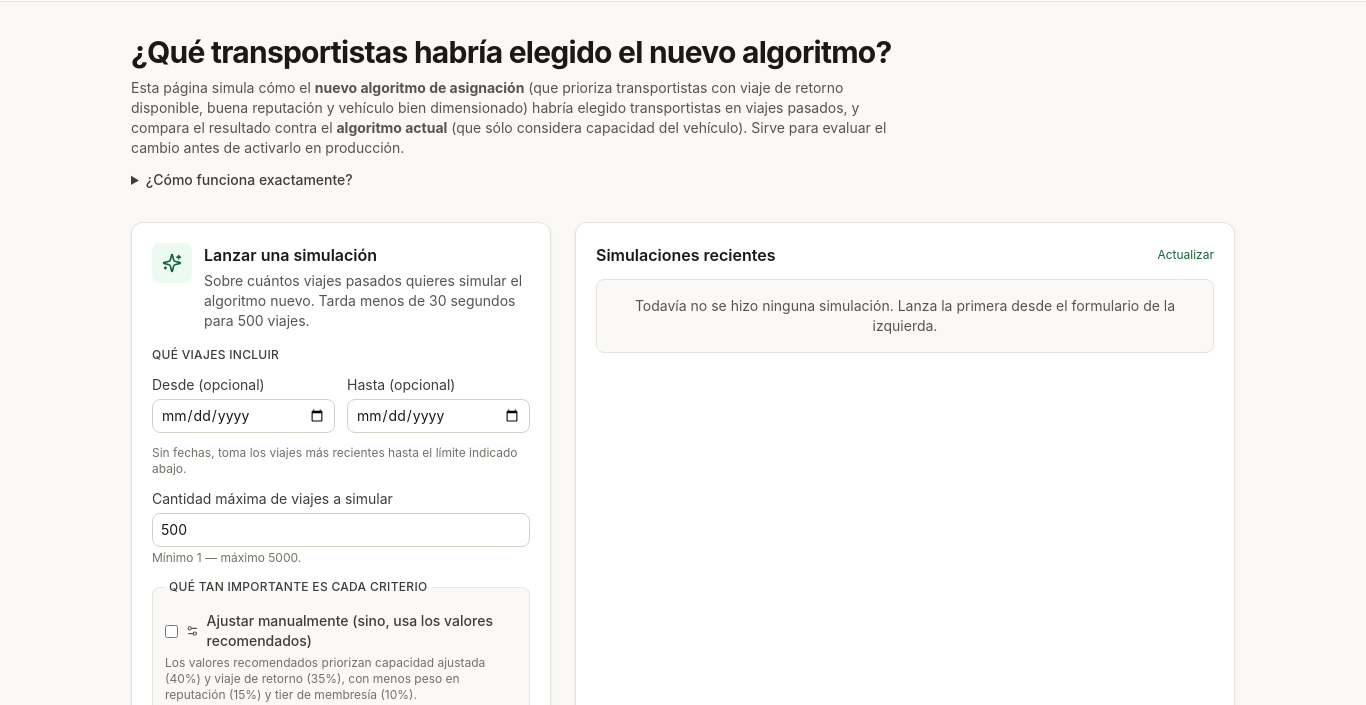
Formulario — lanzar simulación › pesos con suma ≠ 1 → mensaje claro en español, no se hace POST
The image size is (1366, 705).
Step 1. Click the checkbox labelled "Ajustar manualmente (sino, usa los valores recomendados)" → (172, 631), box [165,624,178,638]
(page scrolled)
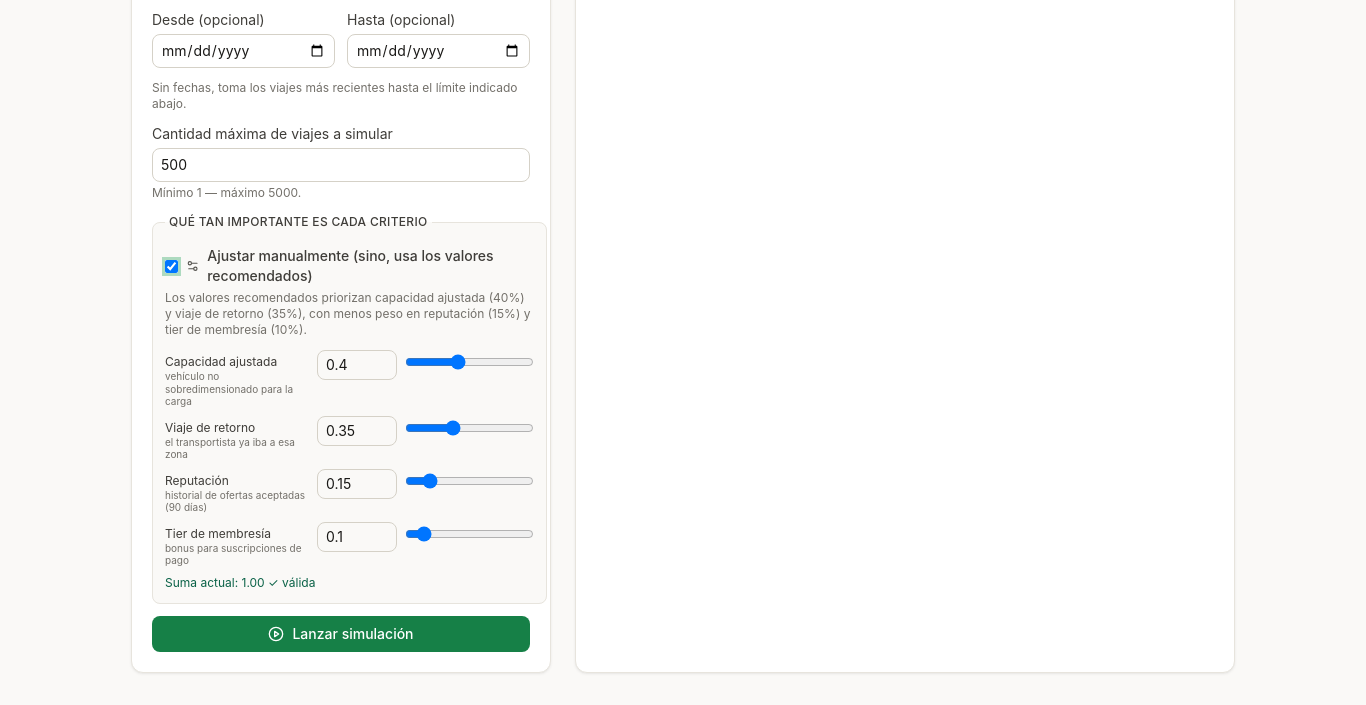
Step 2. Replace the text in the number field showing "0.4" with "0.9" → (357, 365), box [317,350,397,380]
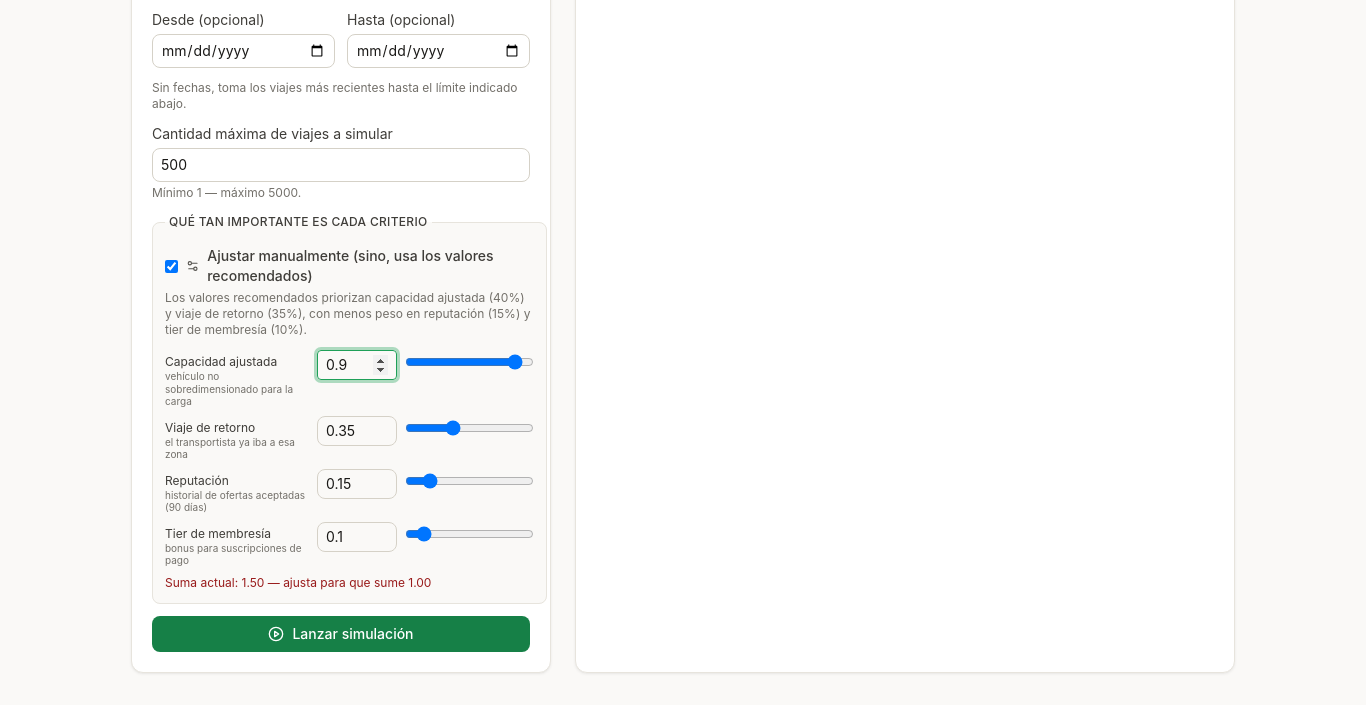
Step 3. Click the button with test id "run-backtest-button" → (341, 634), box [152,616,530,652]
(page scrolled)
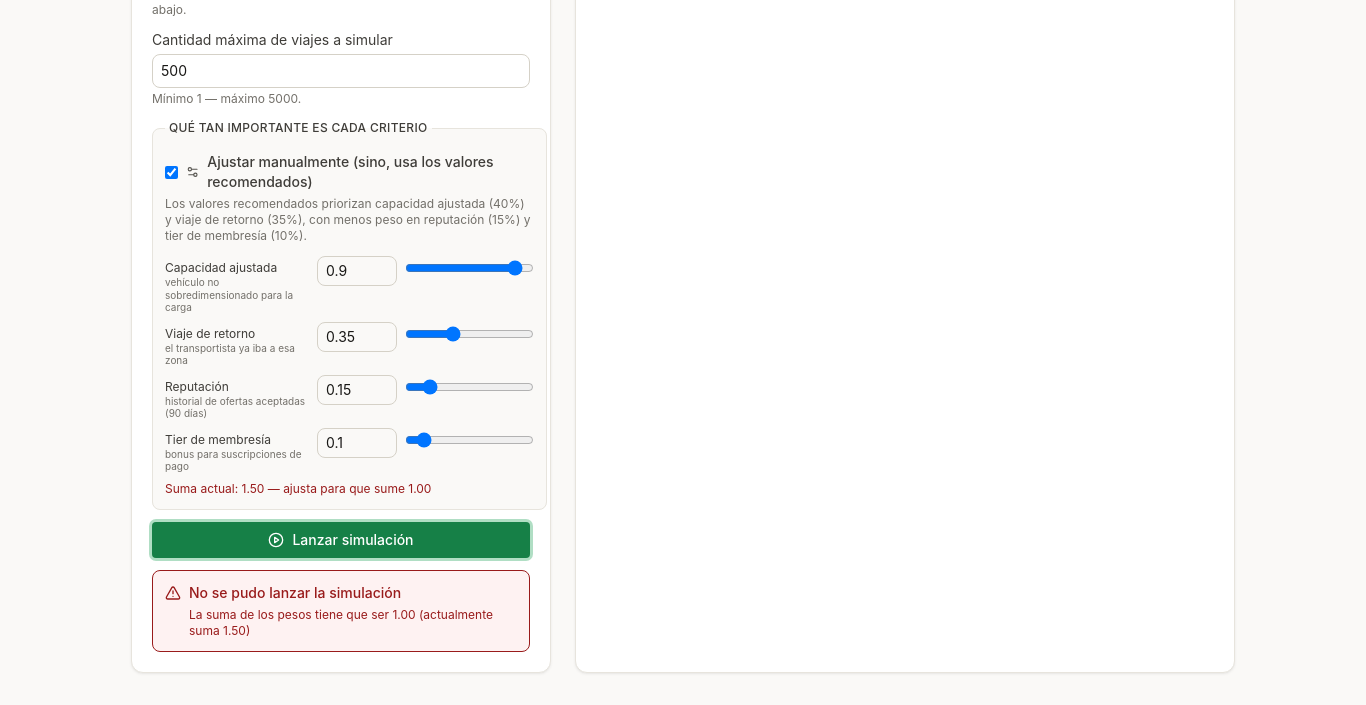
expect the text "La suma de los pesos tiene que ser 1.00" is shown: met, box [189,606,493,638]
